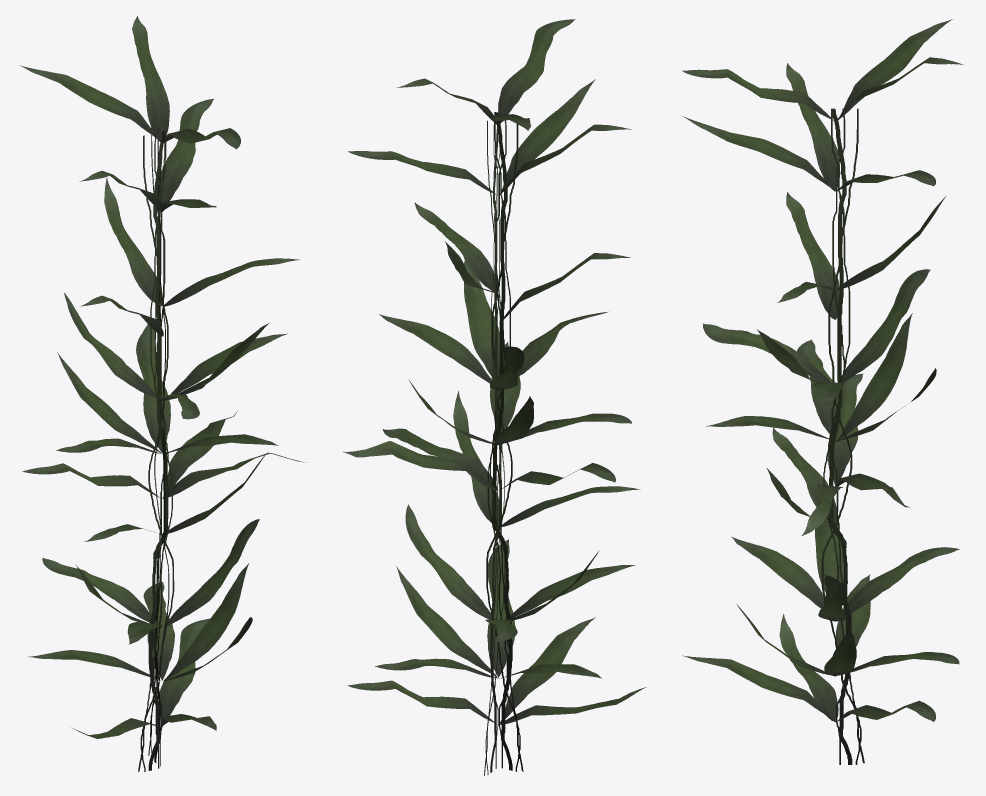
Rendered from Kelp02.dae.
3 views of the same model, side by side, from view 1: azimuth 30°, elevation 25°; view 2: azimuth 150°, elevation 25°; view 3: azimuth 270°, elevation 25° (orthographic). The views are drawn at different scales.
Visible parts, largest first — view 1: Kelp02; view 2: Kelp02; view 3: Kelp02.
Part boxes in pixels (left/top/right/bottom): Kelp02: left=20, top=16, right=307, bottom=771; Kelp02: left=343, top=19, right=646, bottom=775; Kelp02: left=682, top=19, right=963, bottom=764.
Bounding box in the file's own units: 43.67 × 40.43 × 110.
Materials: 1 (1 with a texture image).
